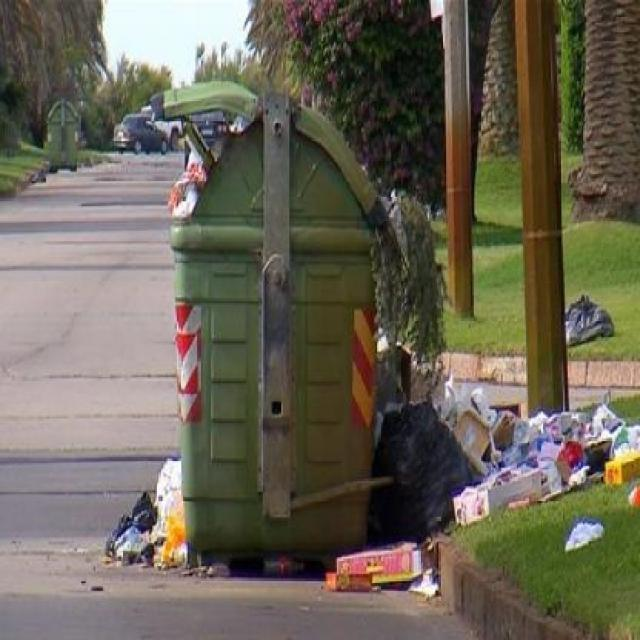garbage: (380, 348, 639, 505), (331, 543, 438, 617), (131, 465, 184, 580), (562, 285, 615, 344)
